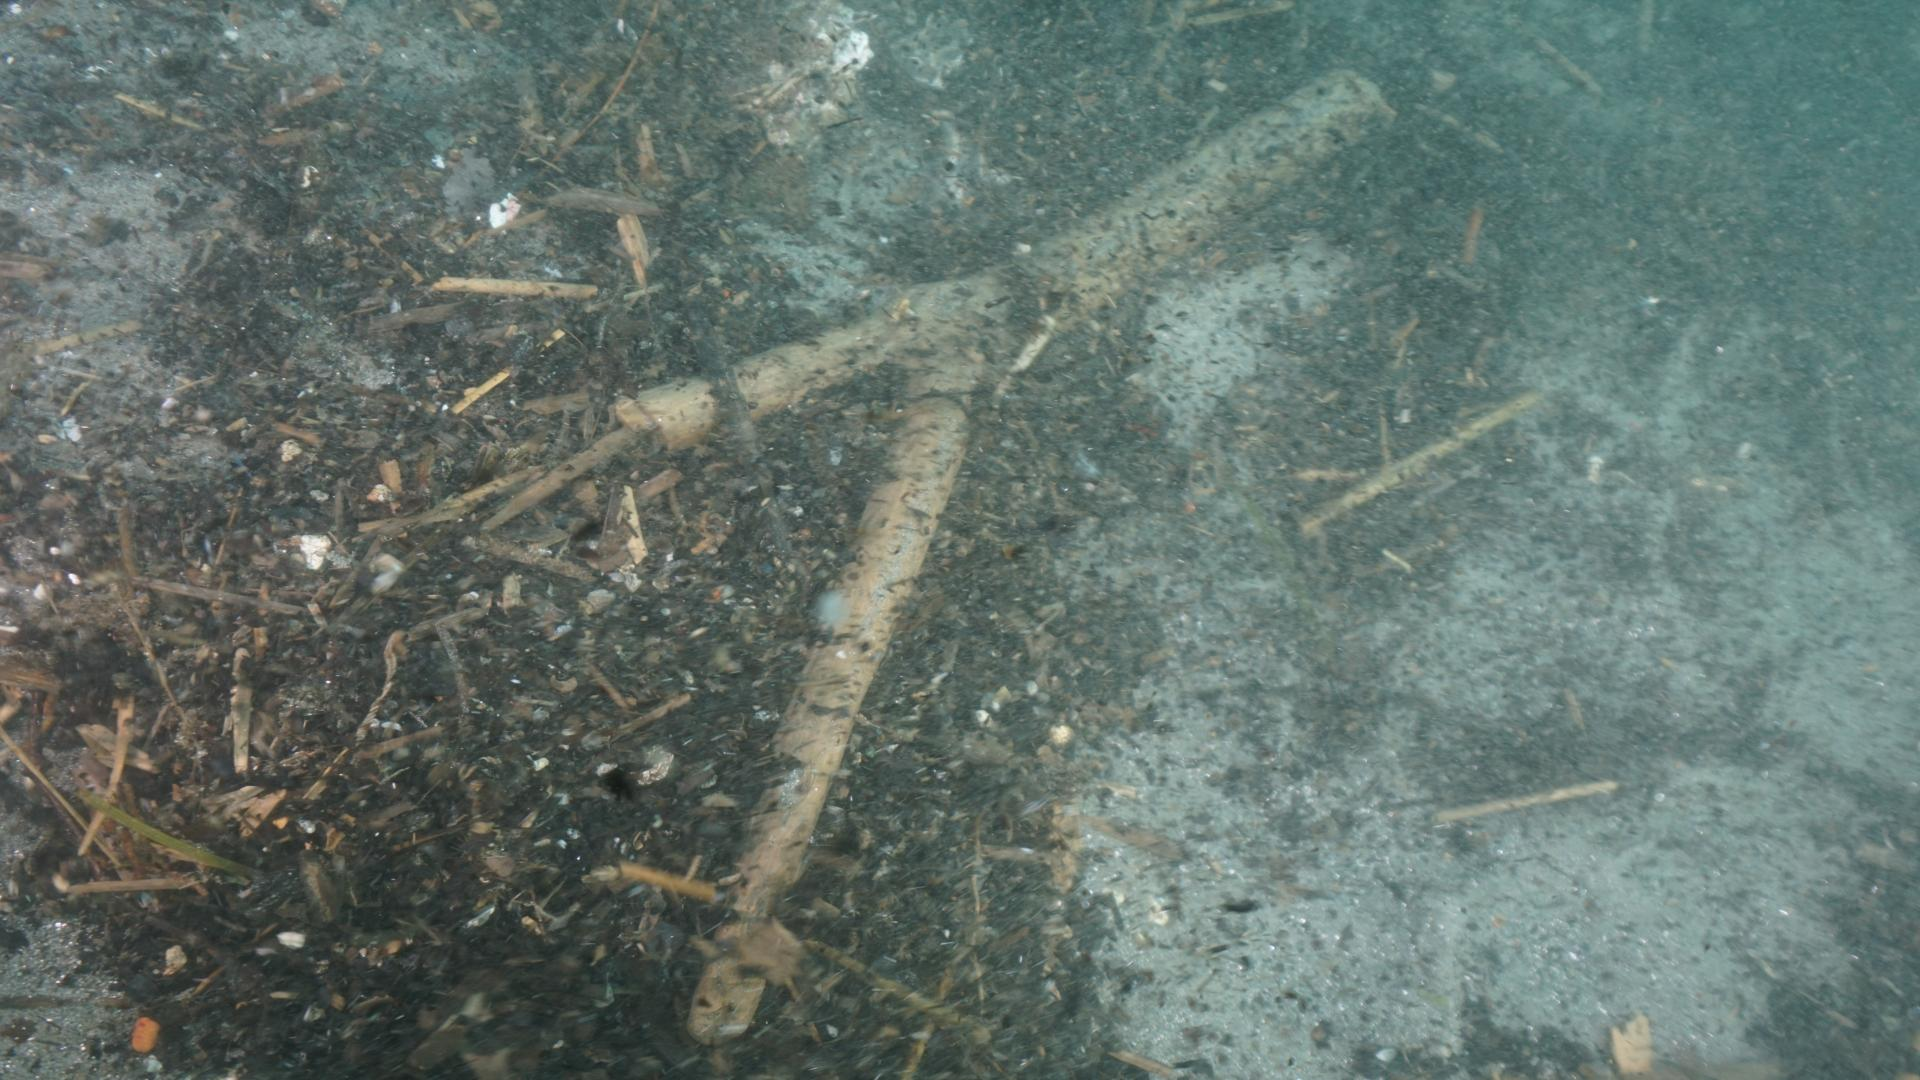wood: (609, 65, 1393, 1036)
